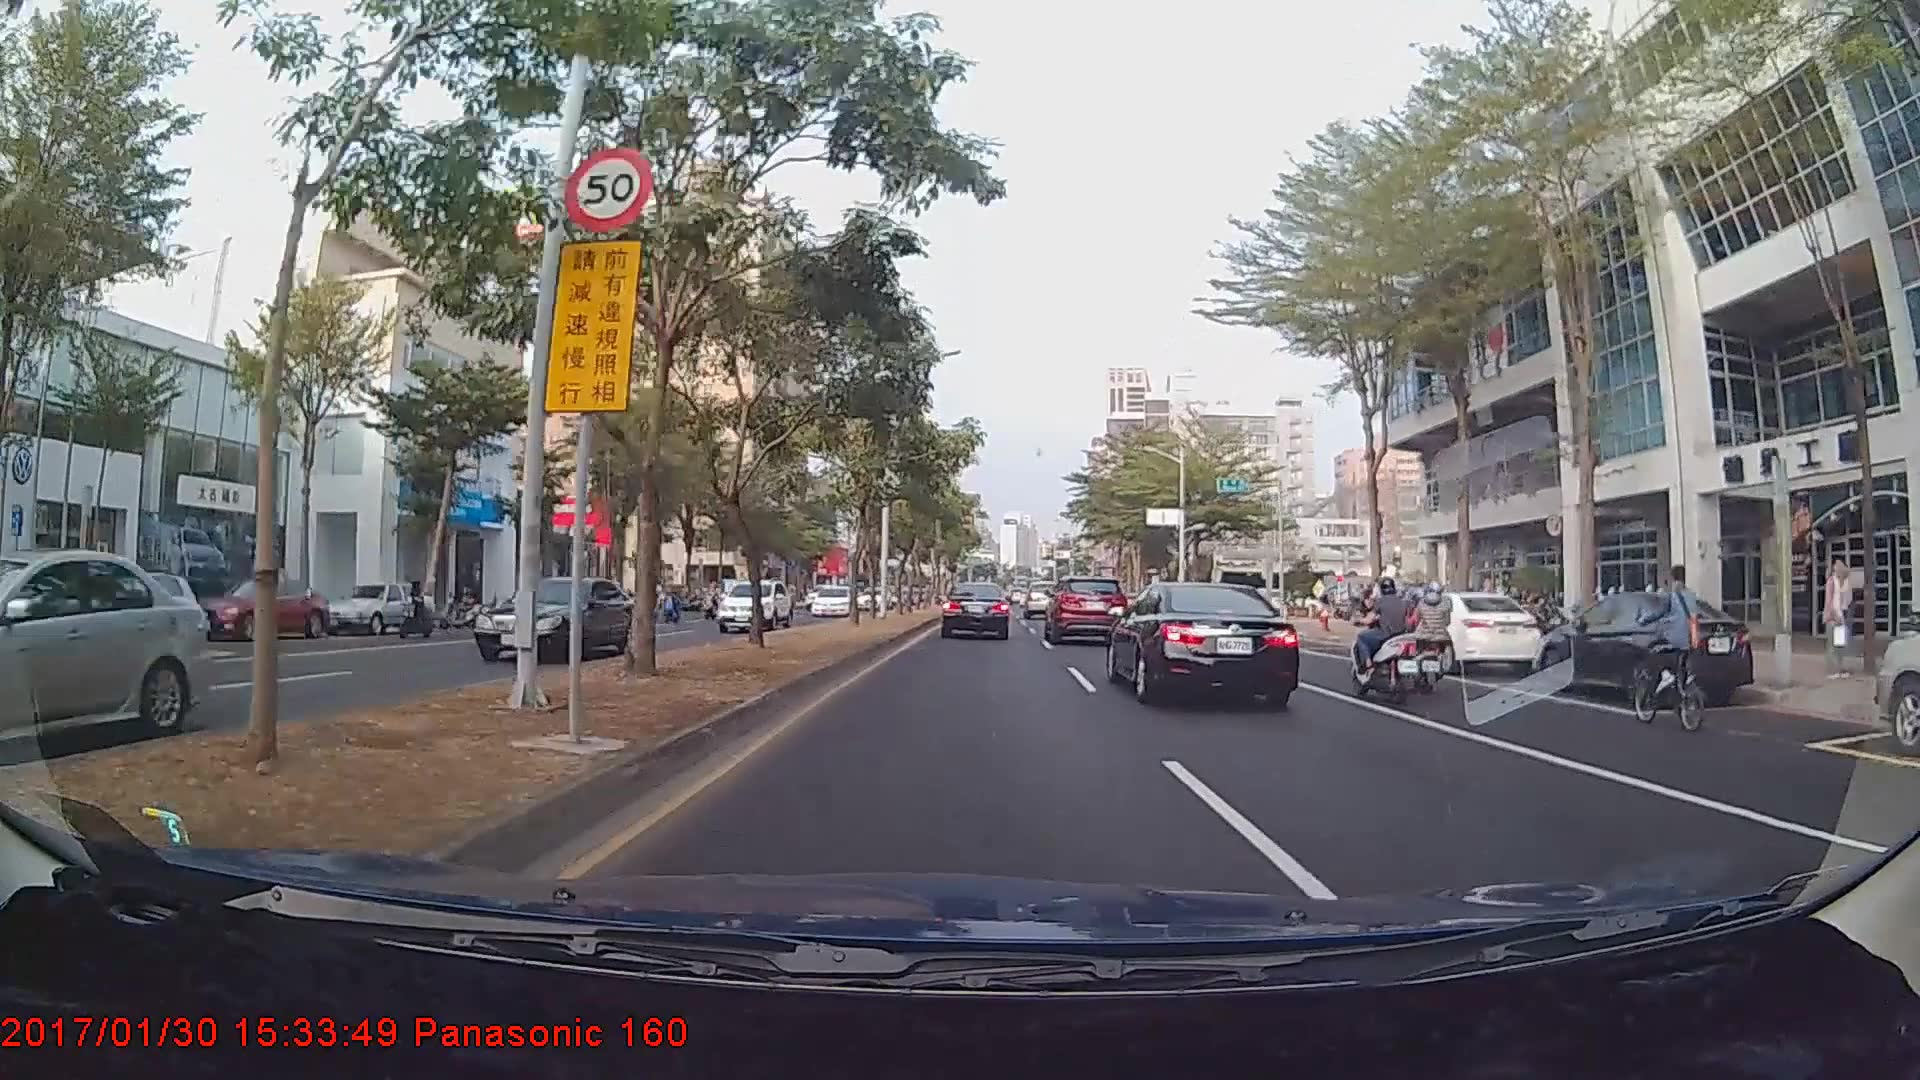pedestrian: (1824, 562, 1853, 681)
rider: (1620, 568, 1724, 741), (1347, 572, 1433, 708), (1403, 578, 1459, 687)
vehicle: (0, 544, 208, 771), (1543, 584, 1756, 708), (1113, 574, 1298, 709), (471, 571, 642, 664), (1386, 590, 1539, 675), (202, 576, 331, 639), (1045, 575, 1126, 644), (328, 581, 429, 636), (939, 579, 1011, 640), (713, 576, 792, 632), (806, 582, 853, 618), (1022, 579, 1062, 618)
